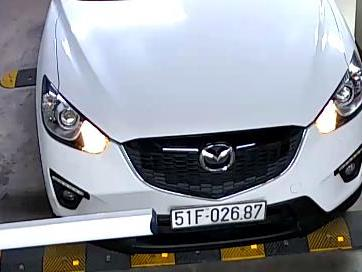number: (172, 200, 267, 229)
